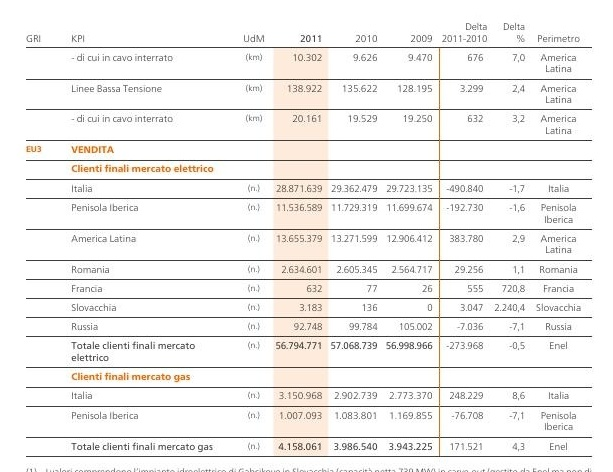table: (0, 0, 613, 472)
